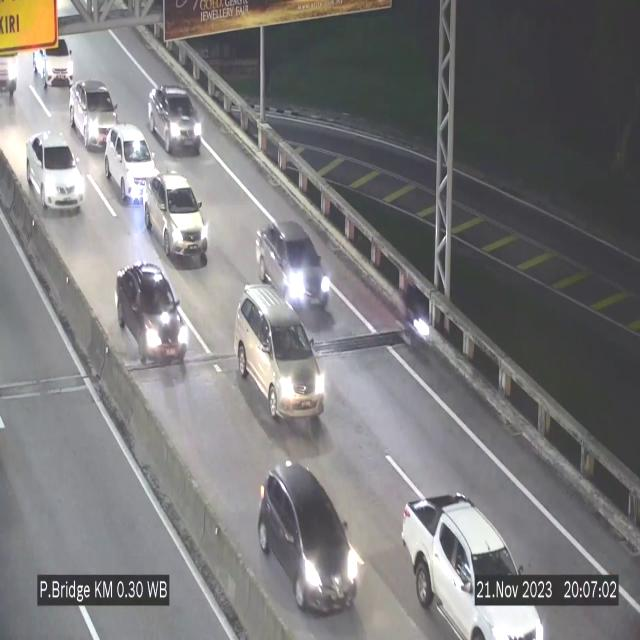Car: (402, 494, 544, 640), (257, 460, 360, 616), (235, 289, 326, 422), (252, 215, 330, 321), (115, 265, 191, 371), (144, 172, 208, 260), (26, 130, 84, 212), (105, 124, 162, 203), (148, 85, 202, 155), (70, 80, 119, 148)
Motorcycle: (400, 274, 430, 372)
